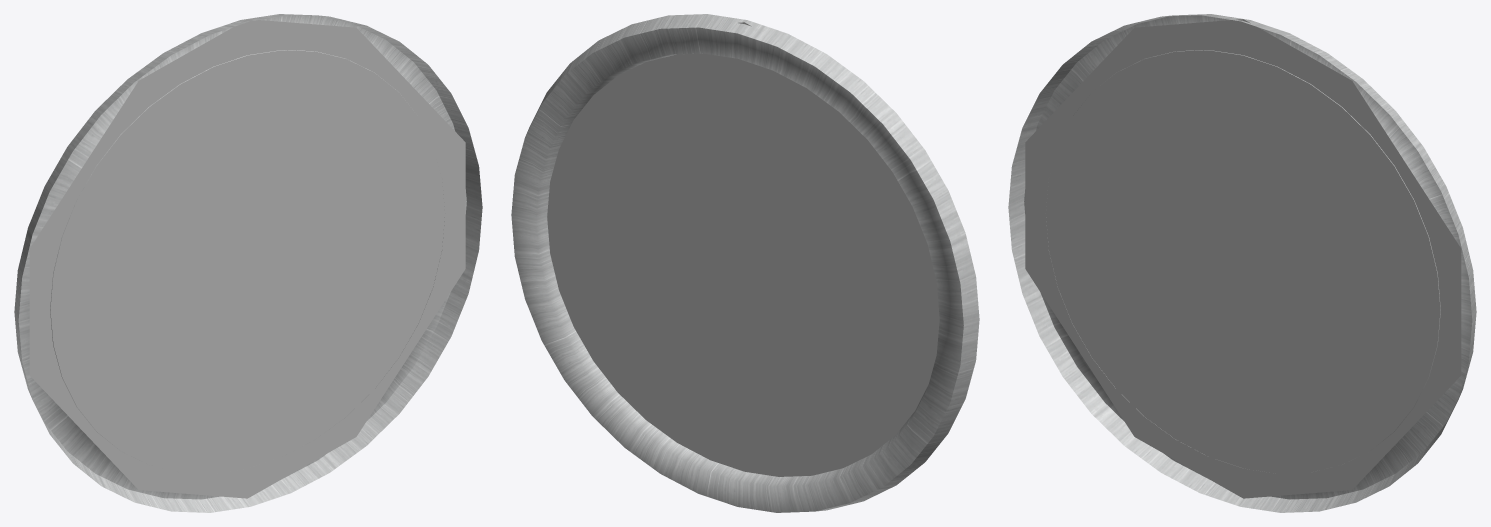
The model's file is Clock.fbx.
3 renders of one model, left to right at view 1: azimuth 30°, elevation 25°; view 2: azimuth 150°, elevation 25°; view 3: azimuth 330°, elevation 25°, orthographic.
Visible parts, largest first — view 1: Clock; view 2: Clock; view 3: Clock.
Boxes of the visible parts, x1=… form: Clock: x1=14, y1=14, x2=482, y2=512; Clock: x1=511, y1=14, x2=979, y2=512; Clock: x1=1008, y1=14, x2=1476, y2=512.
Size of the model in its own units: 61.15 by 61.15 by 2.28.
